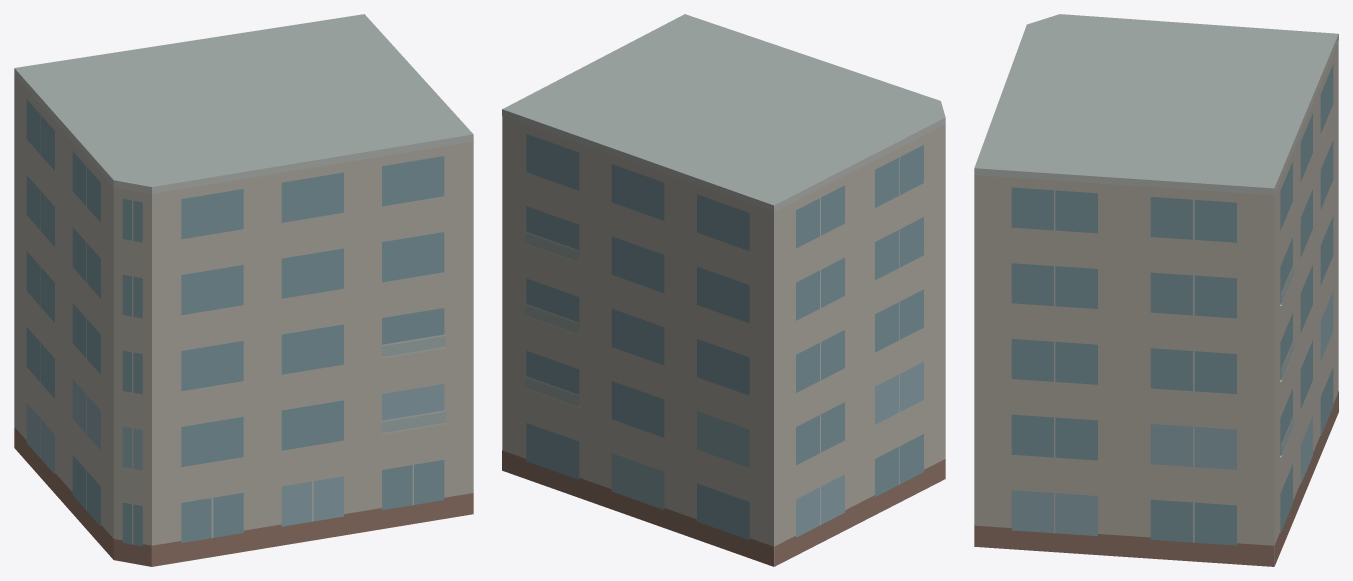
Rendered from survey-upis-33042489.glb.
3 renders of one model, left to right at view 1: azimuth 30°, elevation 25°; view 2: azimuth 150°, elevation 25°; view 3: azimuth 270°, elevation 25°, orthographic. The views are drawn at different scales.
Visible parts, largest first — view 1: survey-upis-33042489.tmp; view 2: survey-upis-33042489.tmp; view 3: survey-upis-33042489.tmp.
Part boxes in pixels (x1,y1,x2,y2): survey-upis-33042489.tmp: [14, 14, 473, 566]; survey-upis-33042489.tmp: [502, 14, 945, 566]; survey-upis-33042489.tmp: [974, 14, 1338, 566].
Bounding box in the file's own units: 13.15 × 13.3 × 11.62.
